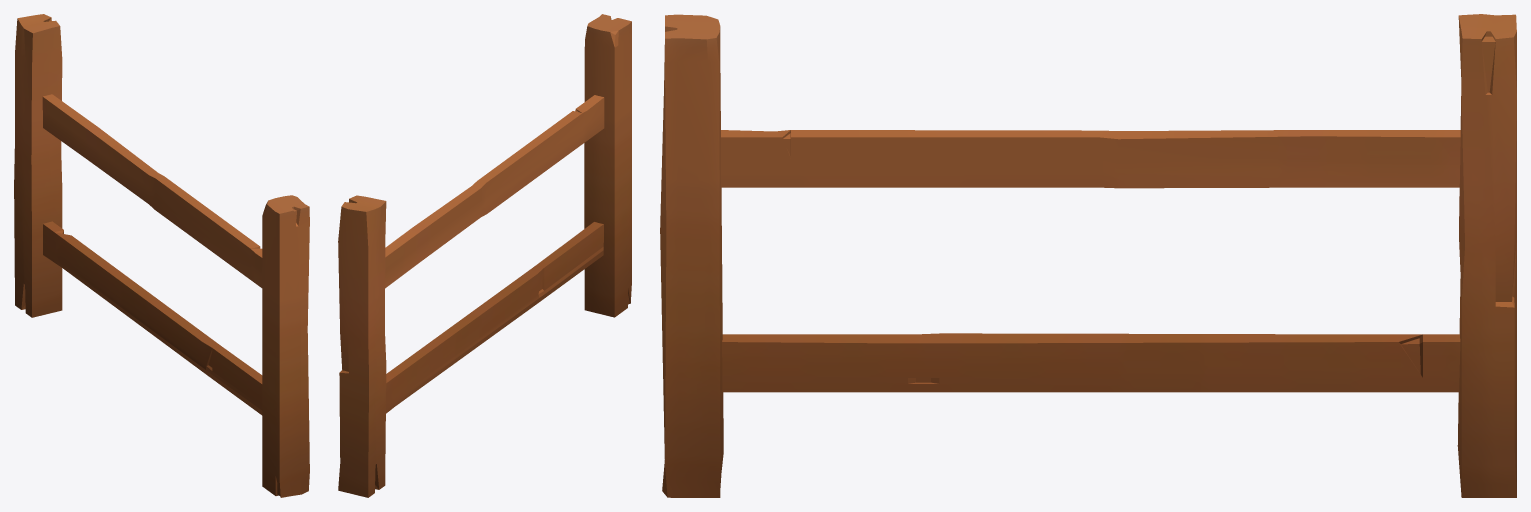
File: fence.glb
3 renders of one model, left to right at view 1: azimuth 30°, elevation 25°; view 2: azimuth 150°, elevation 25°; view 3: azimuth 270°, elevation 25°, orthographic. The views are drawn at different scales.
Visible parts, largest first — view 1: fence; view 2: fence; view 3: fence.
Part boxes in pixels (box(x1,y1,x2,y2)): fence: box(14, 14, 309, 497); fence: box(338, 14, 631, 497); fence: box(660, 14, 1516, 497).
Size of the model in its own units: 0.2495 by 2.05 by 3.45.
1 material, 1 textured.
